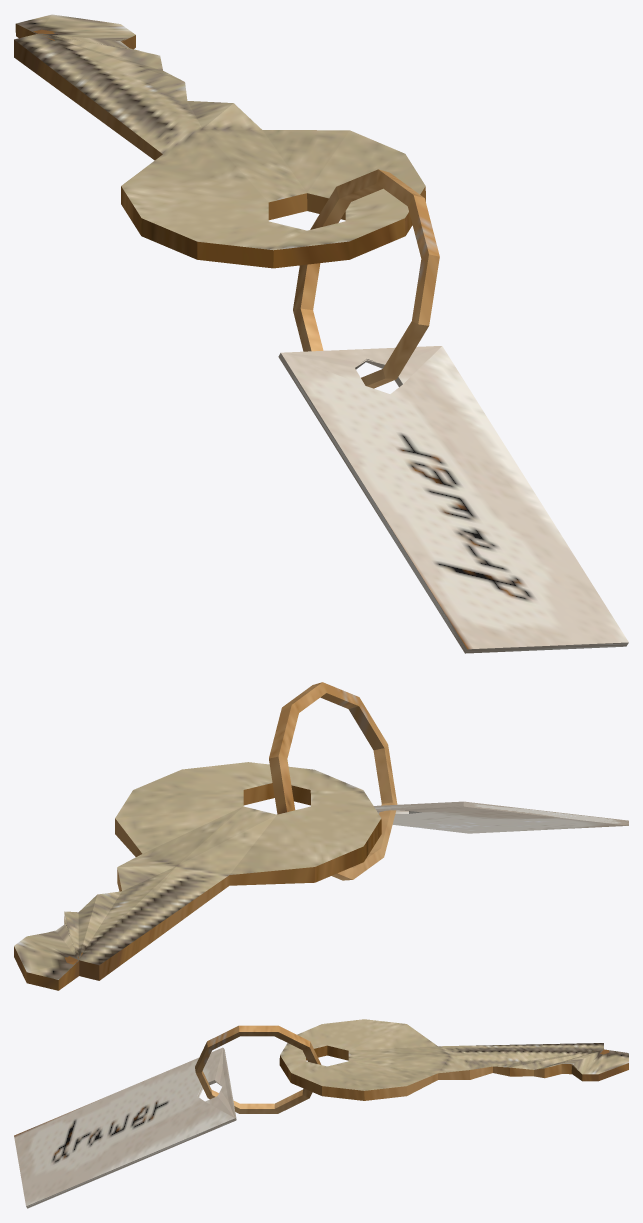
Rendered from keys.fbx.
3 renders of one model, top to bottom at view 1: azimuth 30°, elevation 25°; view 2: azimuth 150°, elevation 25°; view 3: azimuth 270°, elevation 25°, orthographic. The views are drawn at different scales.
Visible parts, largest first — view 1: Circle.001; view 2: Circle.001; view 3: Circle.001.
Part boxes in pixels (x1,y1,x2,y2): Circle.001: (14, 14, 628, 653); Circle.001: (14, 682, 628, 990); Circle.001: (14, 1019, 628, 1208).
Size of the model in its own units: 2 by 2.3 by 7.24.
2 materials, 2 textured.
